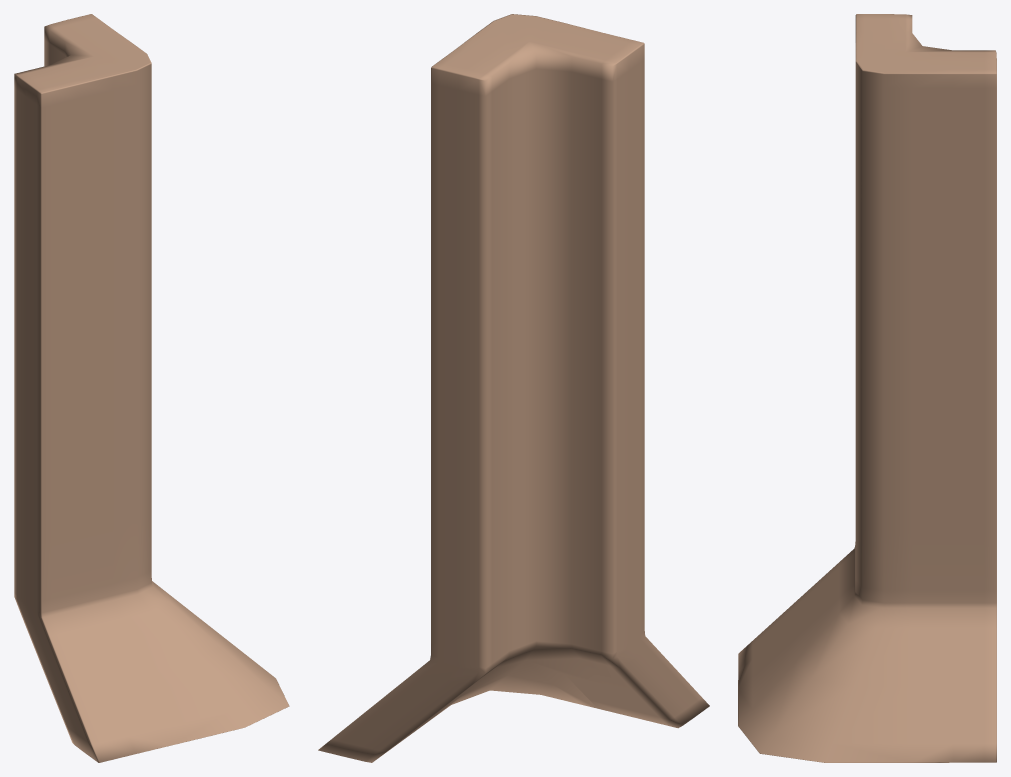
Rendered from Lab_el_join_light_ext_angle.fbx.
3 views of the same model, side by side, from view 1: azimuth 30°, elevation 25°; view 2: azimuth 150°, elevation 25°; view 3: azimuth 270°, elevation 25° (orthographic). The views are drawn at different scales.
Visible parts, largest first — view 1: Object012; view 2: Object012; view 3: Object012.
Boxes of the visible parts, bbox=[...] form: Object012: bbox=[14, 14, 289, 762]; Object012: bbox=[318, 14, 709, 762]; Object012: bbox=[738, 14, 996, 762].
Bounding box in the file's own units: 110 × 300 × 110.
